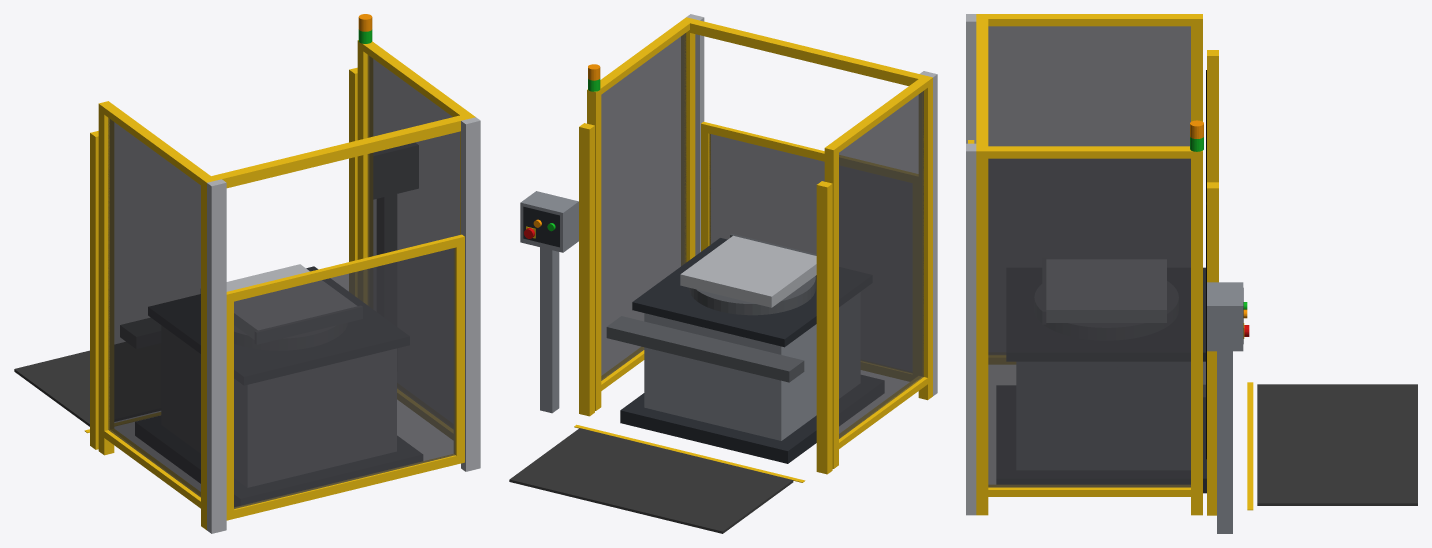
Rendered from lu_station_manual.glb.
The picture shows the model from 3 angles, left to right: view 1: azimuth 30°, elevation 25°; view 2: azimuth 150°, elevation 25°; view 3: azimuth 270°, elevation 25°; orthographic projection. The views are drawn at different scales.
Parts seen in each view (by area): view 1: lu_guard__mesh, lu_door__mesh, lu_guard__yellow, lu_base__grey, lu_guard__steel, lu_base__dark, lu_door__yellow, lu_console__floor, lu_turntable__steel, lu_console__grey, lu_turntable__steel_dark, lu_base__steel_dark; view 2: lu_guard__mesh, lu_guard__yellow, lu_door__mesh, lu_console__floor, lu_base__grey, lu_base__dark, lu_turntable__steel, lu_console__grey, lu_base__steel_dark, lu_door__yellow, lu_guard__steel, lu_turntable__steel_dark (+2 smaller); view 3: lu_guard__mesh, lu_guard__yellow, lu_console__floor, lu_base__grey, lu_base__dark, lu_turntable__steel, lu_guard__steel, lu_console__grey, lu_turntable__steel_dark, lu_console__yellow.
Boxes of the visible parts, x1,y1,x2,y2 form: lu_guard__mesh: (108, 55, 460, 497); lu_door__mesh: (234, 248, 455, 508); lu_guard__yellow: (90, 40, 475, 530); lu_base__grey: (162, 326, 396, 487); lu_guard__steel: (207, 117, 480, 533); lu_base__dark: (135, 266, 422, 506); lu_door__yellow: (226, 234, 464, 520); lu_console__floor: (14, 342, 160, 426); lu_turntable__steel: (226, 264, 355, 338); lu_console__grey: (374, 143, 418, 254); lu_turntable__steel_dark: (234, 306, 362, 350); lu_base__steel_dark: (120, 318, 160, 348); lu_guard__mesh: (601, 33, 923, 438); lu_guard__yellow: (579, 17, 932, 474); lu_door__mesh: (709, 134, 911, 371); lu_console__floor: (509, 428, 793, 533); lu_base__grey: (644, 293, 859, 440); lu_base__dark: (620, 238, 883, 463); lu_turntable__steel: (680, 235, 816, 307); lu_console__grey: (520, 191, 578, 413); lu_base__steel_dark: (606, 316, 804, 382); lu_door__yellow: (701, 121, 917, 381); lu_guard__steel: (686, 14, 937, 395); lu_turntable__steel_dark: (689, 234, 816, 315); lu_guard__mesh: (988, 26, 1190, 487); lu_guard__yellow: (976, 14, 1218, 515); lu_console__floor: (1257, 384, 1417, 505); lu_base__grey: (1017, 362, 1190, 469); lu_base__dark: (997, 267, 1206, 493); lu_turntable__steel: (1047, 260, 1166, 322); lu_guard__steel: (966, 14, 976, 515); lu_console__grey: (1207, 282, 1243, 533); lu_turntable__steel_dark: (1035, 258, 1178, 339); lu_console__yellow: (1243, 323, 1253, 510).
Bounding box in the file's own units: 1.94 × 2.14 × 2.25.
